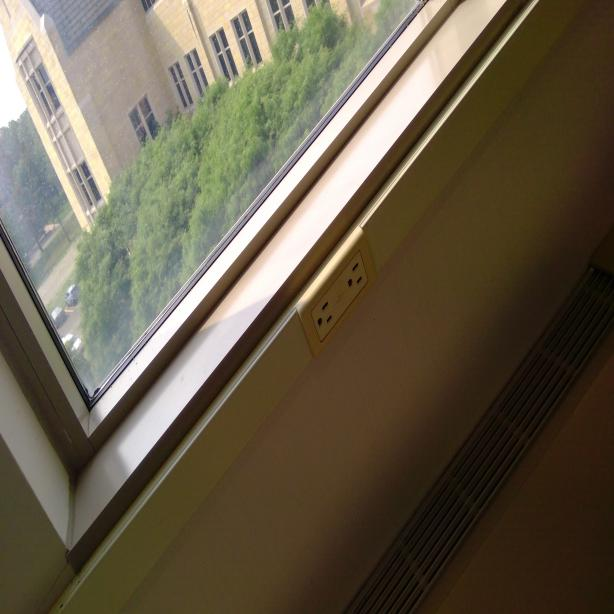typeb: (312, 297, 336, 339), (346, 257, 364, 292)
